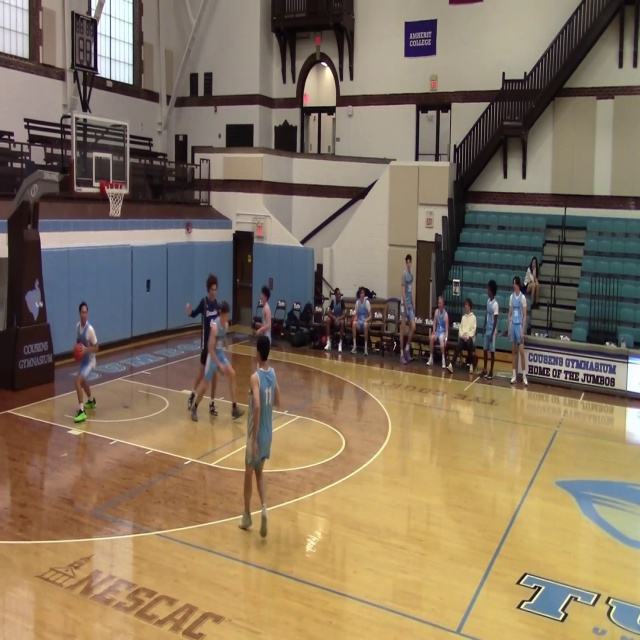Basketball: (73, 343, 85, 362), (185, 303, 191, 314)
